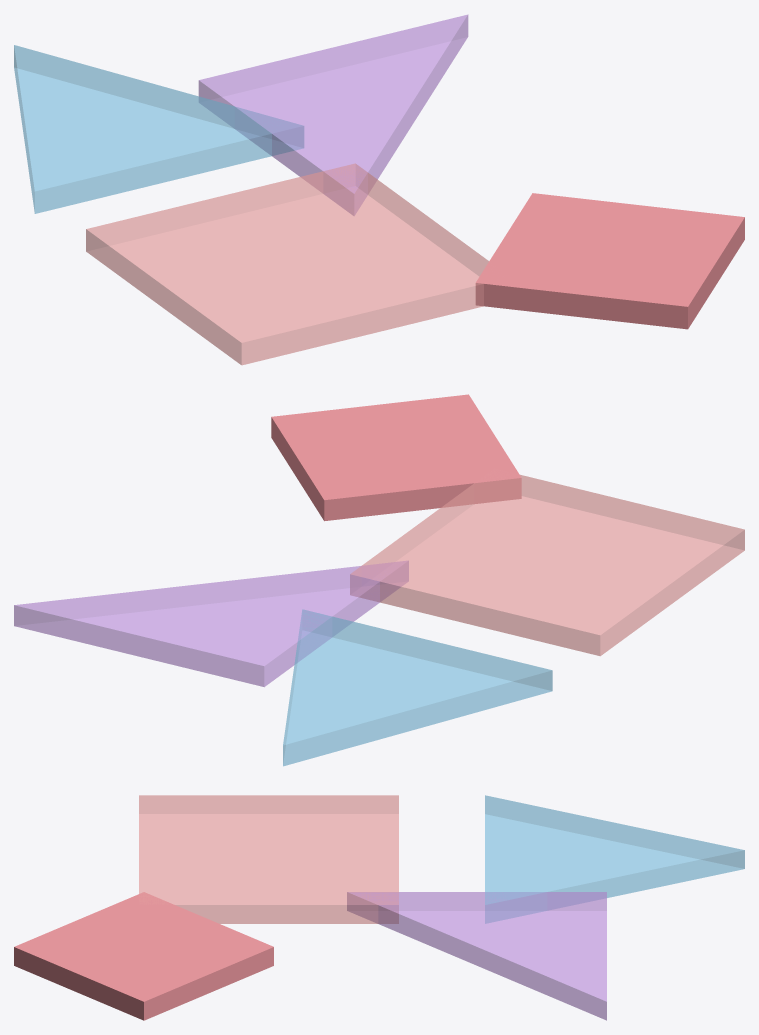
Rendered from barca_step5.glb.
3 views of the same model, one above another, from view 1: azimuth 30°, elevation 25°; view 2: azimuth 150°, elevation 25°; view 3: azimuth 270°, elevation 25° (orthographic). The views are drawn at different scales.
Visible parts, largest first — view 1: quadrato_grande, triangolo_isoscele_grande, rombo, triangolo_rettangolo; view 2: quadrato_grande, triangolo_rettangolo, triangolo_isoscele_grande, rombo; view 3: quadrato_grande, rombo, triangolo_isoscele_grande, triangolo_rettangolo.
Part boxes in pixels (bbox=[...]): quadrato_grande: bbox=[86, 163, 503, 365]; triangolo_isoscele_grande: bbox=[14, 45, 303, 213]; rombo: bbox=[475, 193, 744, 329]; triangolo_rettangolo: bbox=[198, 14, 468, 215]; quadrato_grande: bbox=[350, 470, 744, 656]; triangolo_rettangolo: bbox=[14, 560, 408, 687]; triangolo_isoscele_grande: bbox=[283, 609, 552, 766]; rombo: bbox=[271, 394, 521, 521]; quadrato_grande: bbox=[139, 795, 398, 923]; rombo: bbox=[14, 892, 273, 1020]; triangolo_isoscele_grande: bbox=[485, 795, 744, 923]; triangolo_rettangolo: bbox=[347, 892, 606, 1020].
Size of the model in its own units: 1.88 by 0.08 by 2.81.
